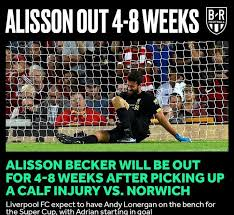10+: (6, 40, 229, 151)
down: (65, 75, 193, 145)
